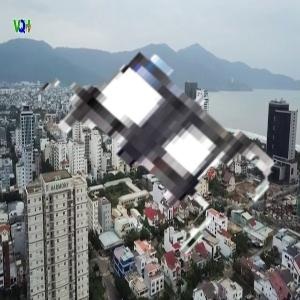drone: (18, 4, 281, 267)
